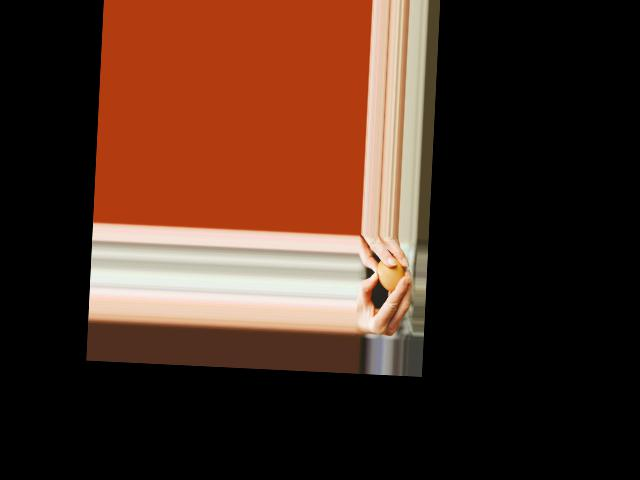egg: (376, 255, 406, 291)
